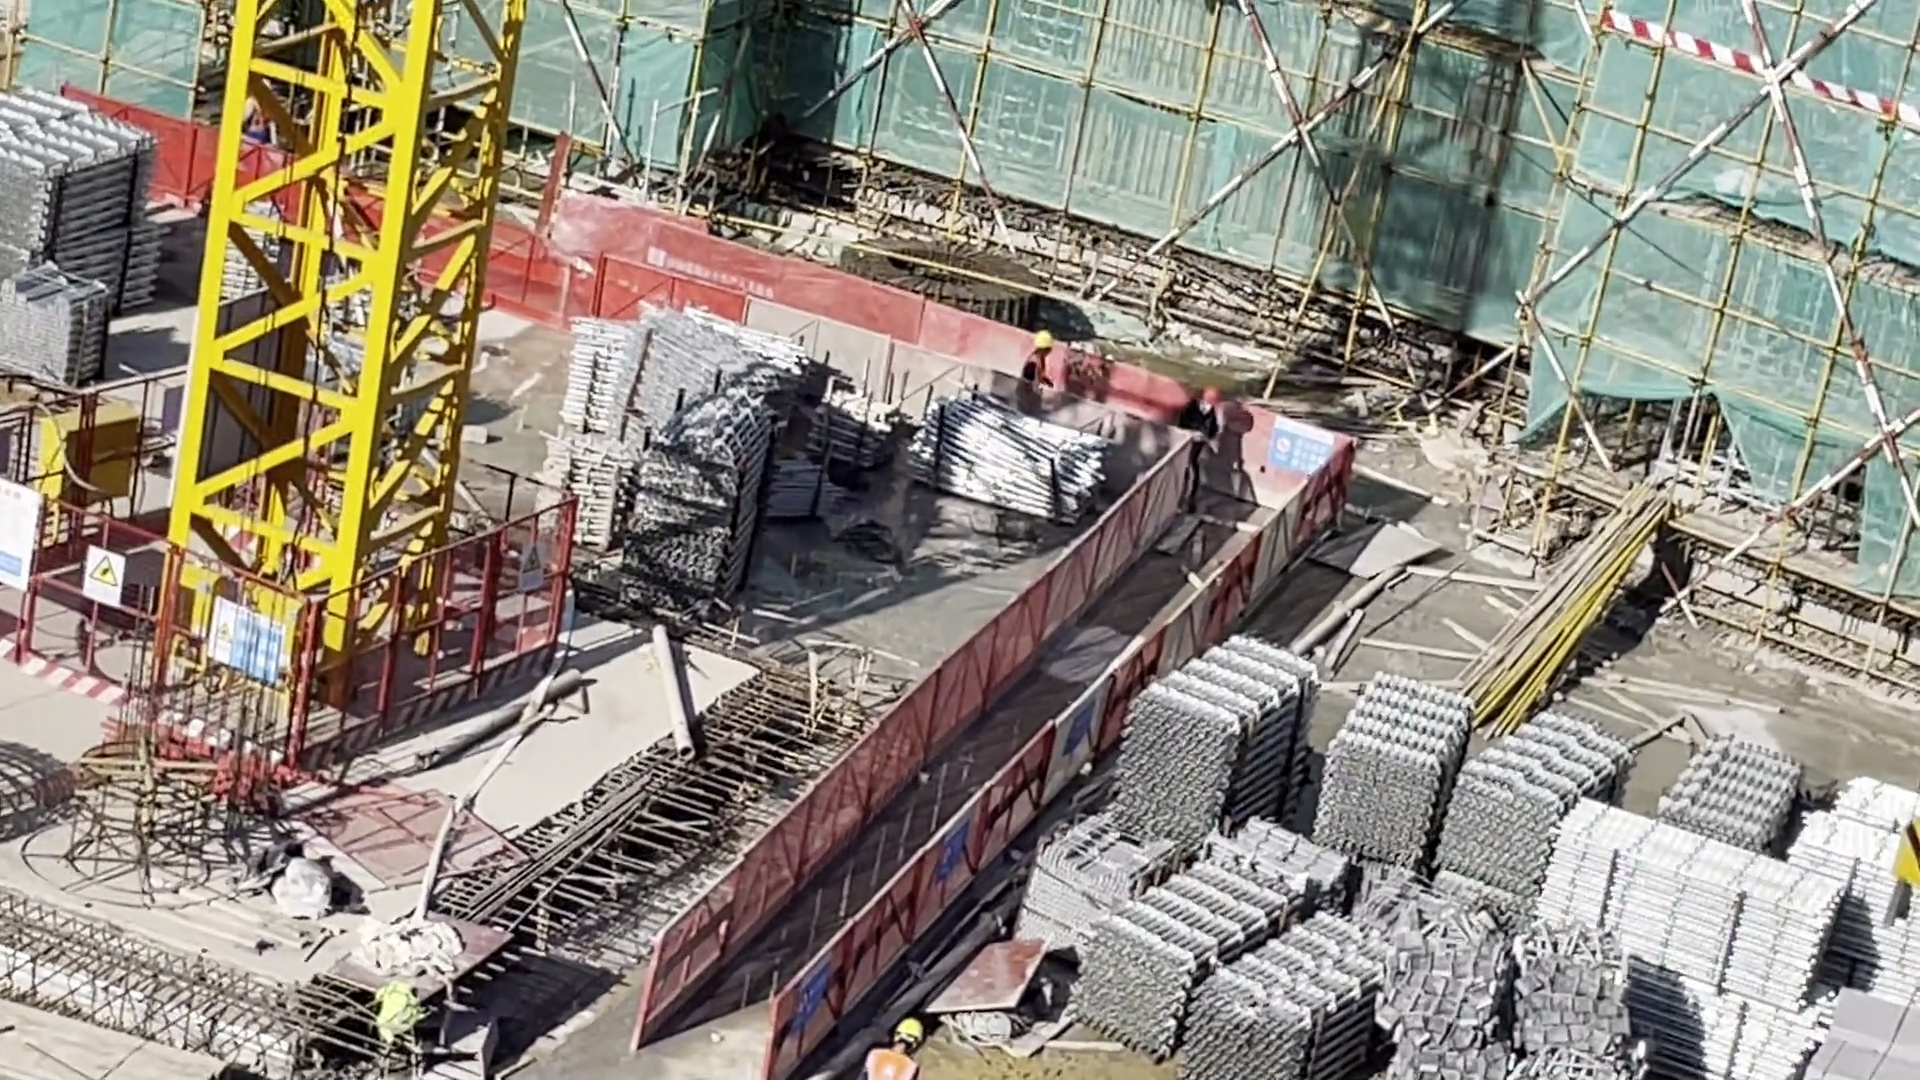ebox: (39, 408, 135, 523)
fence: (647, 443, 1351, 1062), (502, 203, 997, 400)
helmet: (896, 1018, 923, 1045), (1035, 333, 1054, 346)
person: (1170, 380, 1221, 511), (855, 1016, 924, 1080), (1021, 326, 1061, 388)
scaffold: (1541, 806, 1834, 1073), (1083, 866, 1279, 1054), (1124, 638, 1306, 833), (1451, 708, 1628, 887), (1196, 915, 1388, 1080), (4, 114, 155, 312), (639, 399, 765, 610), (1320, 678, 1463, 855), (915, 395, 1102, 522), (648, 295, 800, 406), (1665, 738, 1797, 857), (1, 262, 105, 385), (535, 437, 628, 542), (562, 307, 632, 433), (809, 392, 898, 469)
slogan: (202, 606, 288, 689), (1273, 420, 1336, 477), (797, 958, 835, 1027), (85, 546, 120, 600), (942, 818, 967, 877), (517, 547, 546, 593)
vest: (867, 1054, 918, 1080), (1028, 353, 1046, 401)
